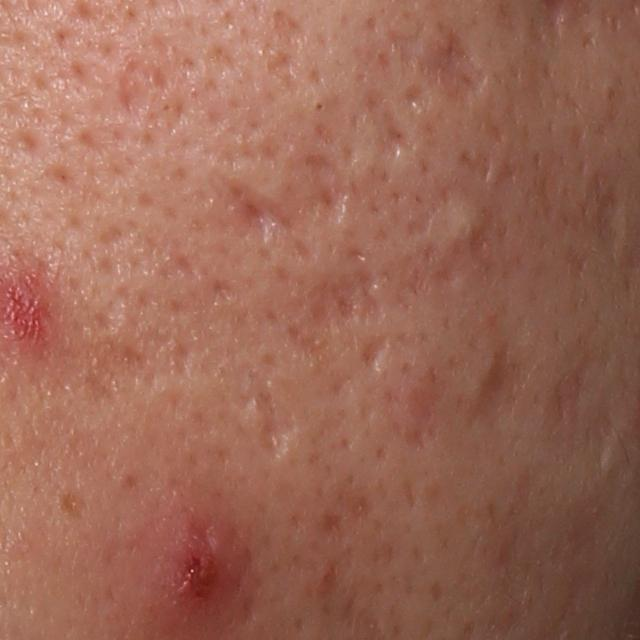atrophic_scar: (268, 269, 393, 367), (382, 14, 493, 110), (211, 170, 315, 269), (462, 342, 536, 436), (231, 363, 298, 460), (295, 151, 352, 228), (362, 84, 417, 162), (404, 372, 454, 447), (97, 66, 155, 128), (587, 171, 624, 268), (354, 333, 395, 375), (456, 146, 497, 183), (265, 47, 301, 85), (268, 8, 305, 42), (404, 84, 431, 113)
comedo: (308, 96, 328, 114)
hypertrophic_scar: (431, 195, 492, 241)
papule: (150, 521, 233, 623)
